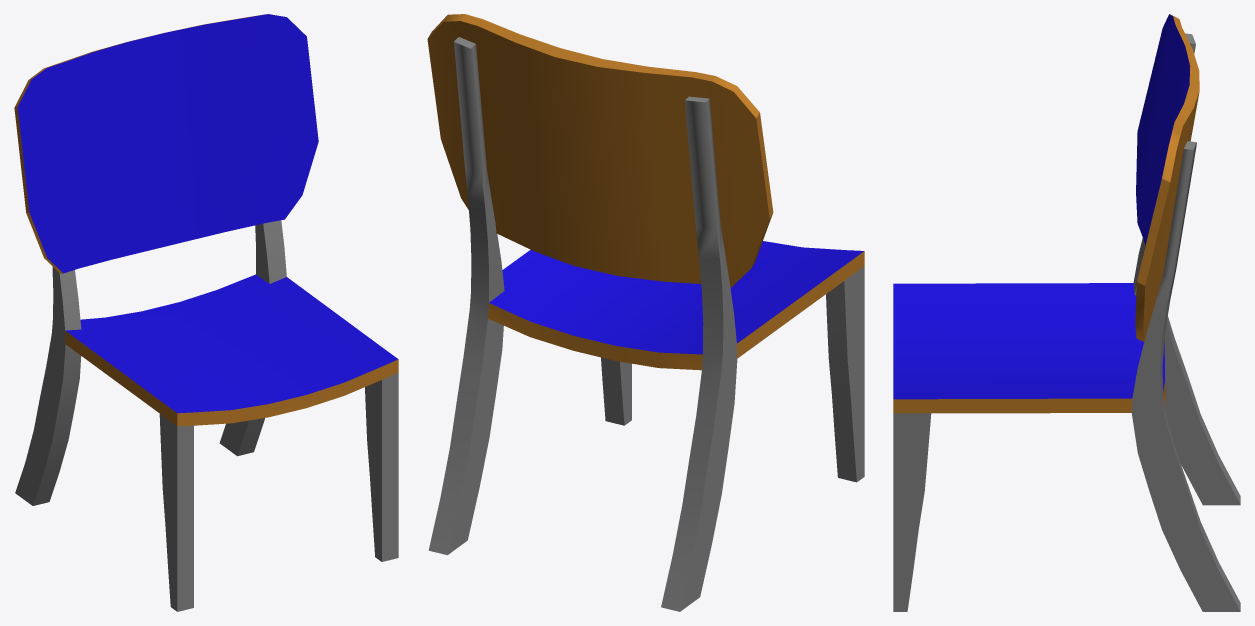
File: silla con colores.fbx
The picture shows the model from 3 angles, left to right: view 1: azimuth 30°, elevation 25°; view 2: azimuth 150°, elevation 25°; view 3: azimuth 270°, elevation 25°; orthographic projection. The views are drawn at different scales.
Parts seen in each view (by area): view 1: Cube.012; view 2: Cube.012; view 3: Cube.012.
Boxes of the visible parts, x1=… form: Cube.012: x1=14, y1=14, x2=398, y2=611; Cube.012: x1=427, y1=14, x2=864, y2=611; Cube.012: x1=893, y1=14, x2=1240, y2=611.
Size of the model in its own units: 87.54 by 130 by 85.17.
